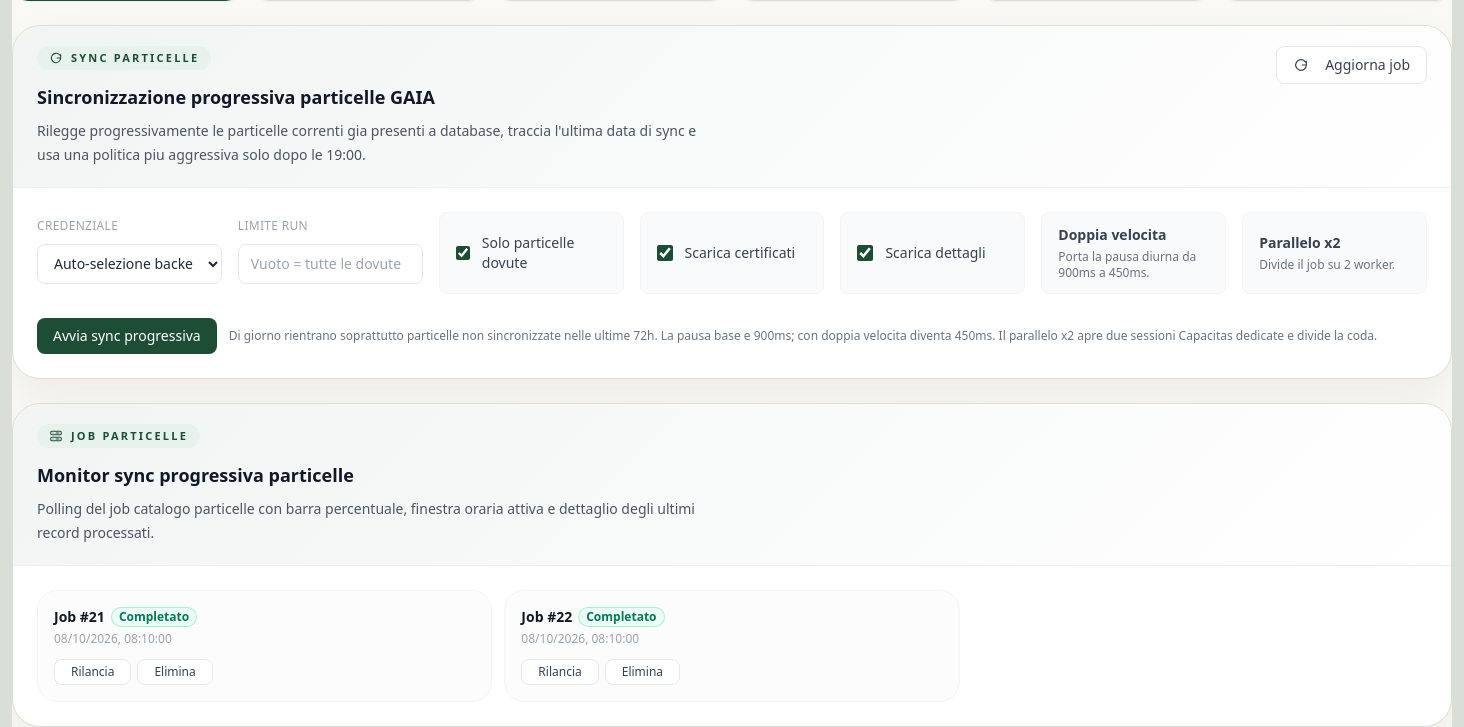
Scenario: Capacitas Particelle command characterization › delete removes only its matching ID after success without another list request
The image size is (1464, 727).
(page scrolled)
Expected: the text "Job #21" is shown, [54,607,105,627]
What coordinates should you click on to do the following:
click the button "Elimina" below "21"
I would click on:
 (175, 672)
Its box is [137,659,213,685].
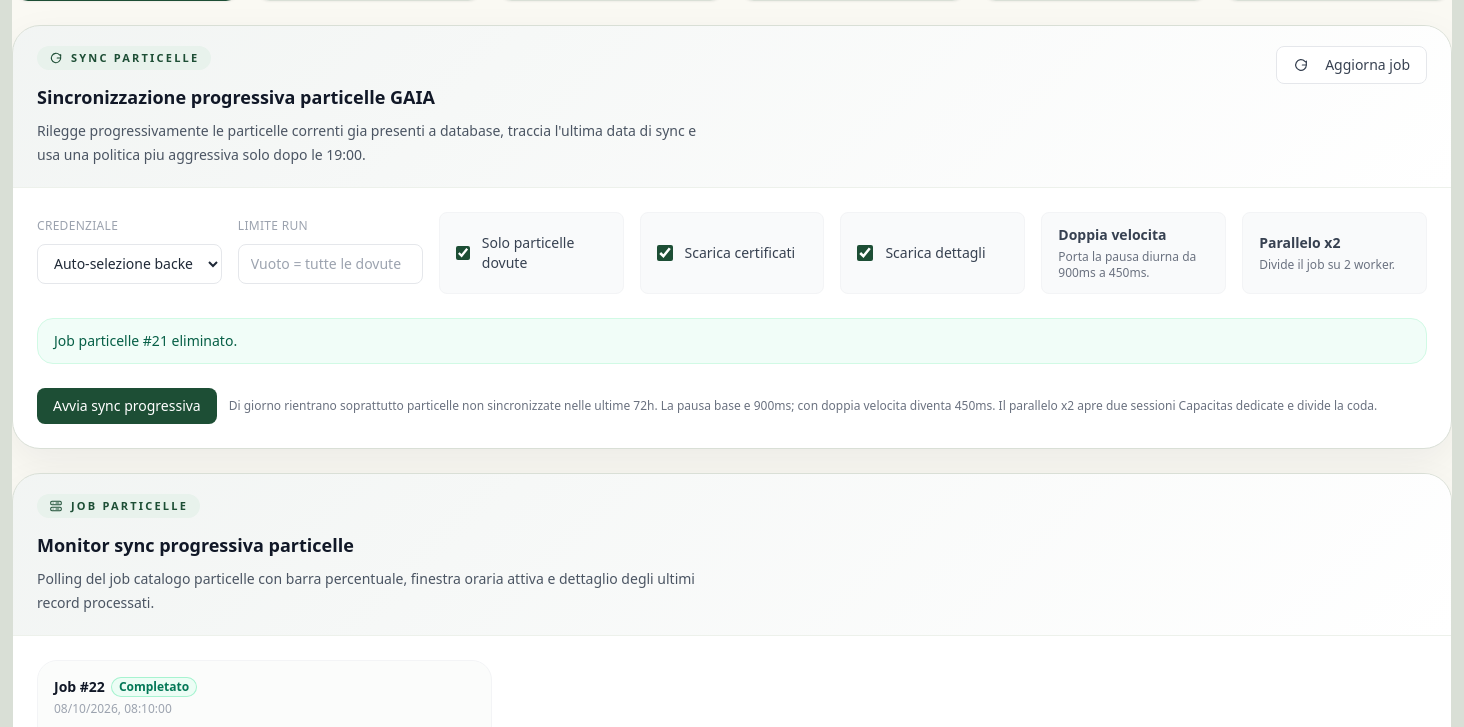
Expected: the text "Job #22" is shown, [54,677,105,697]
Expected: the text "Job #21" is gone
Expected: the text "Job particelle #21 eliminato." is shown, [37,318,1427,364]
